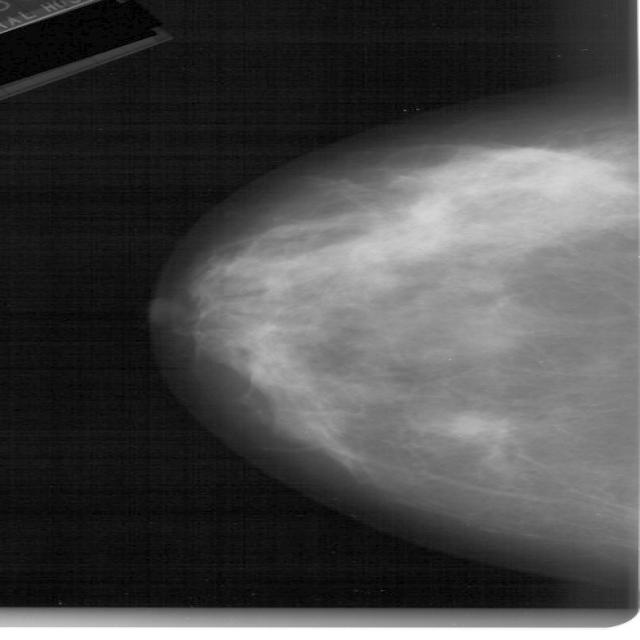tumour: (405, 191, 454, 226)
